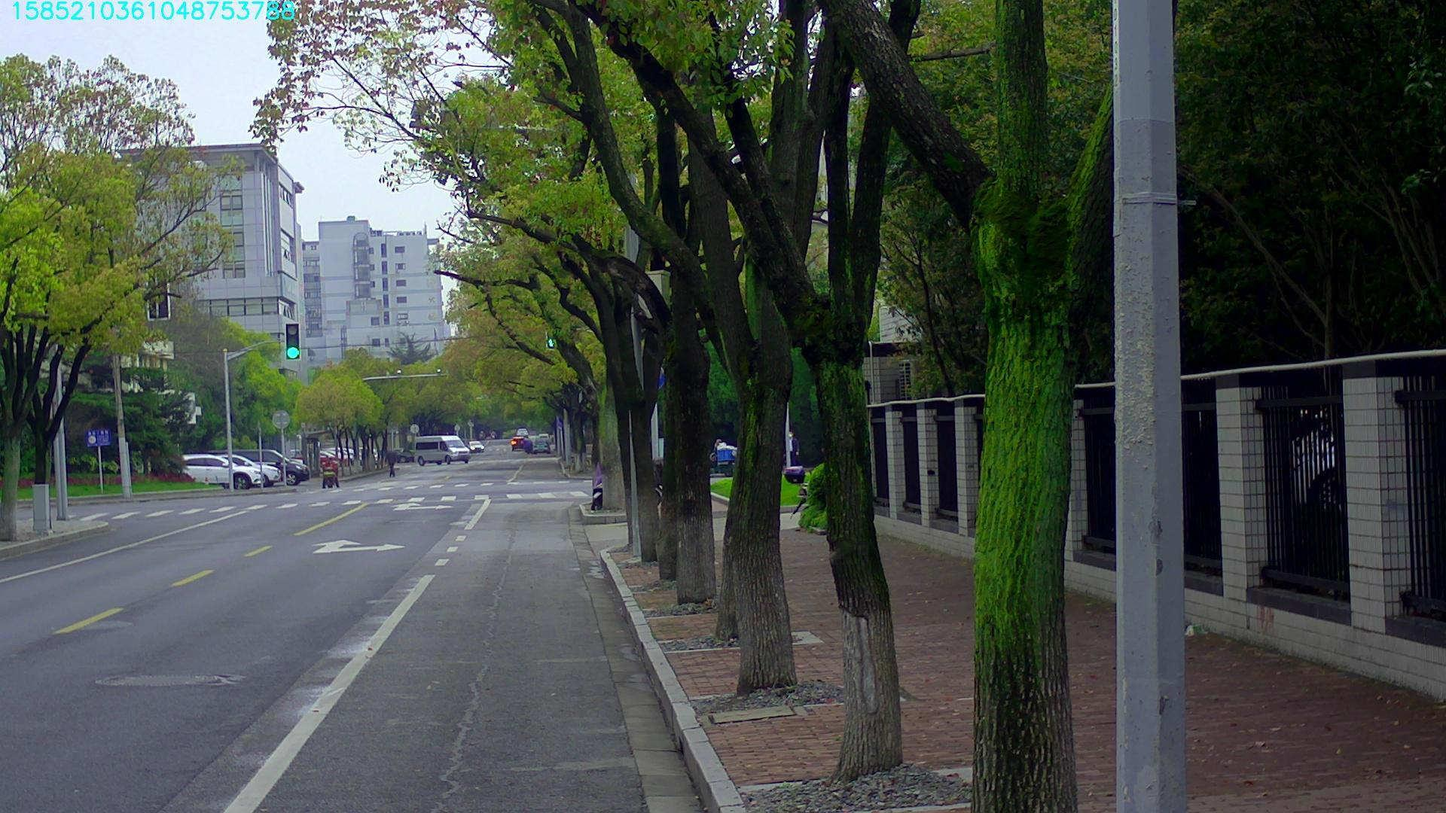green: (285, 322, 300, 359), (546, 315, 560, 349)
